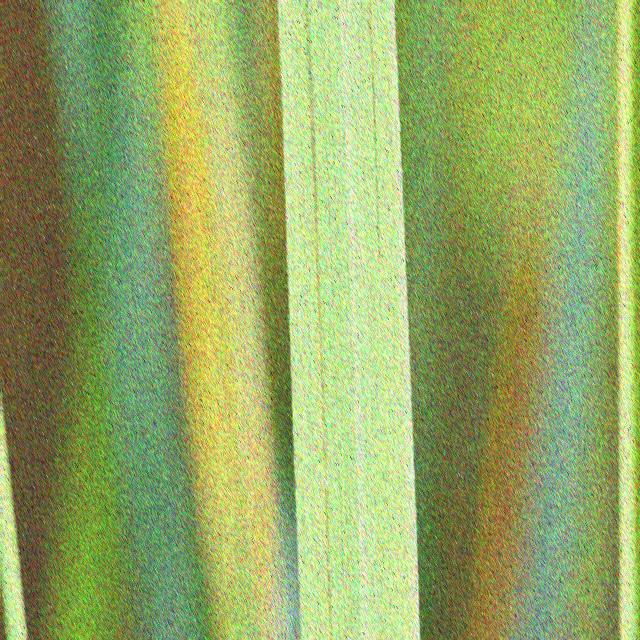BLS: (304, 0, 332, 638), (367, 0, 379, 261)
